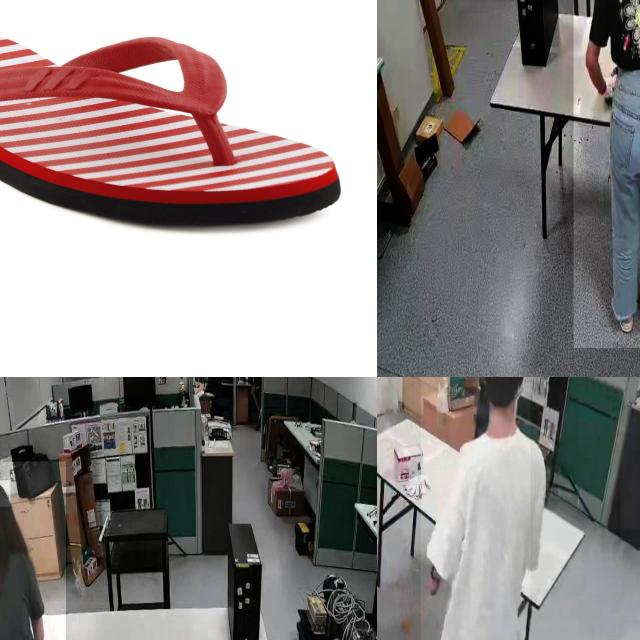Sandals: (0, 26, 343, 228)
head_nohelmet: (0, 480, 11, 507)
person: (421, 377, 531, 640), (573, 0, 640, 349), (0, 461, 66, 640)
shoes: (607, 288, 637, 338)
